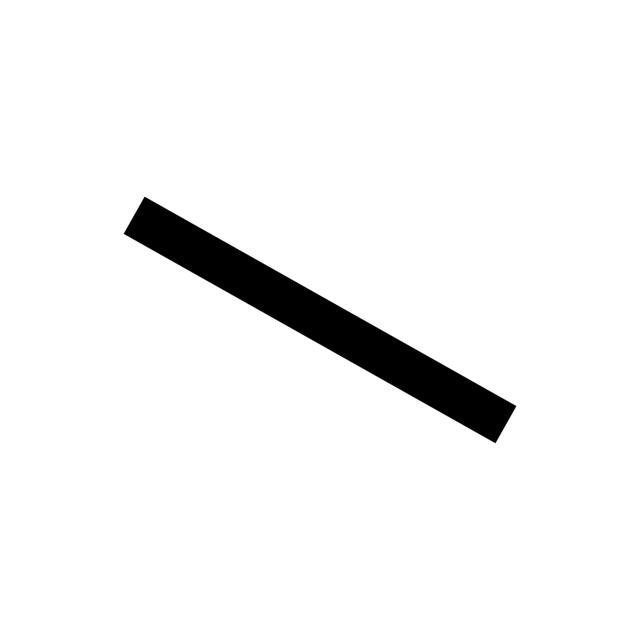line: (123, 197, 516, 443)
